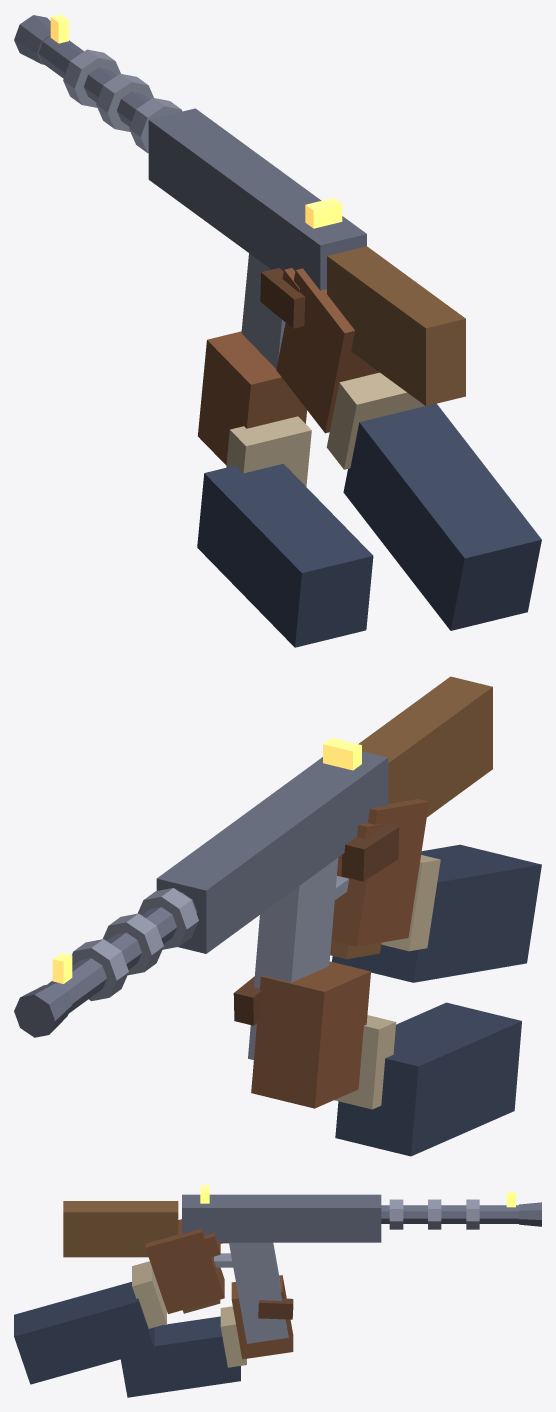
The model's file is weapon_machine_gun.glb.
3 views of the same model, one above another, from view 1: azimuth 30°, elevation 25°; view 2: azimuth 150°, elevation 25°; view 3: azimuth 270°, elevation 25° (orthographic). The views are drawn at different scales.
Visible parts, largest first — view 1: machine_gun; view 2: machine_gun; view 3: machine_gun.
Boxes of the visible parts, x1,y1,x2,y2 form: machine_gun: (14, 14, 541, 647); machine_gun: (14, 676, 541, 1156); machine_gun: (14, 1185, 541, 1397).
Size of the model in its own units: 0.261 by 0.6205 by 1.38.
